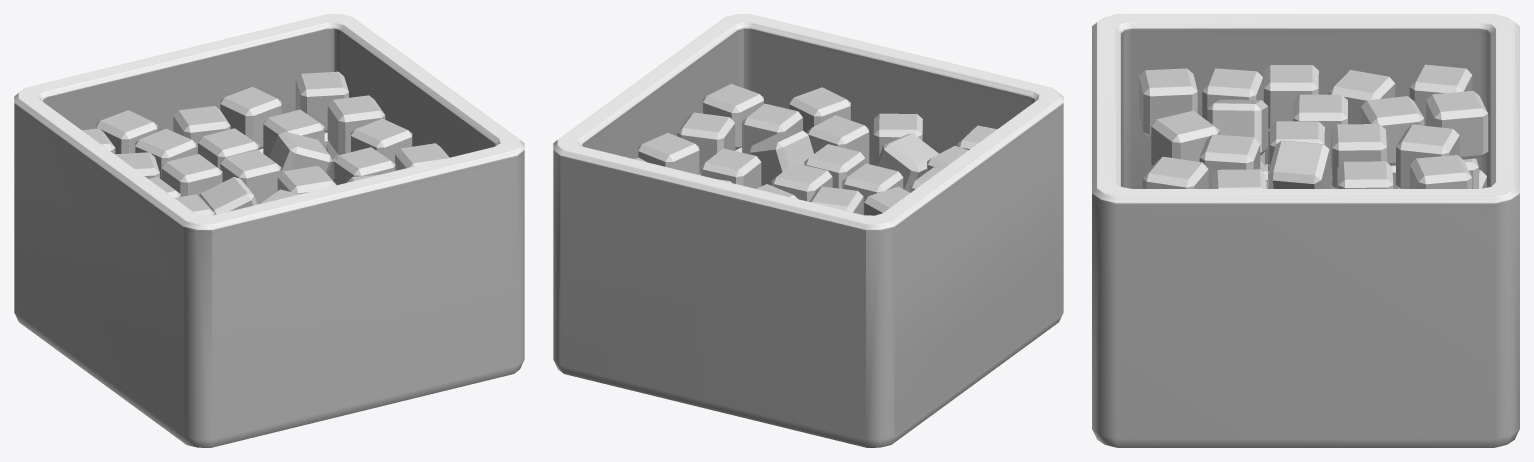
File: bin.glb
3 views of the same model, side by side, from view 1: azimuth 30°, elevation 25°; view 2: azimuth 150°, elevation 25°; view 3: azimuth 270°, elevation 25° (orthographic). The views are drawn at different scales.
Parts seen in each view (by area): view 1: Container, Cube.061, Cube.067, Cube.062, Cube.070, Cube.069, Cube.071, Cube.072, Cube.059, Cube.066, Cube.060, Cube.076 (+6 smaller); view 2: Container, Cube.071, Cube.072, Cube.074, Cube.076, Cube.077, Cube.067, Cube.075, Cube.066, Cube.080, Cube.065, Cube.070 (+5 smaller); view 3: Container, Cube.059, Cube.078, Cube.071, Cube.079, Cube.068, Cube.060, Cube.065, Cube.074, Cube.064, Cube.075, Cube.073 (+8 smaller).
Part boxes in pixels (box(x1,y1,x2,y2)): Container: box(14, 14, 524, 447); Cube.061: box(220, 87, 281, 149); Cube.067: box(327, 95, 385, 155); Cube.062: box(295, 71, 348, 132); Cube.070: box(220, 149, 281, 204); Cube.069: box(161, 154, 222, 196); Cube.071: box(269, 131, 332, 174); Cube.072: box(351, 118, 412, 163); Cube.059: box(96, 110, 157, 153); Cube.066: box(263, 109, 324, 157); Cube.060: box(173, 106, 230, 154); Cube.076: box(334, 147, 395, 184); Container: box(553, 14, 1063, 447); Cube.071: box(749, 130, 813, 186); Cube.072: box(677, 112, 735, 174); Cube.074: box(876, 133, 938, 192); Cube.076: box(742, 103, 802, 154); Cube.077: box(702, 84, 763, 150); Cube.067: box(638, 133, 699, 174); Cube.075: box(807, 115, 869, 163); Cube.066: box(700, 148, 761, 188); Cube.080: box(789, 87, 850, 133); Cube.065: box(771, 163, 832, 201); Cube.070: box(804, 144, 865, 188); Container: box(1092, 14, 1519, 447); Cube.059: box(1426, 91, 1488, 159); Cube.078: box(1139, 68, 1197, 137); Cube.071: box(1268, 140, 1332, 188); Cube.079: box(1151, 110, 1219, 165); Cube.068: box(1264, 65, 1318, 131); Cube.060: box(1396, 124, 1459, 188); Cube.065: box(1331, 124, 1386, 188); Cube.074: box(1207, 99, 1268, 155); Cube.064: box(1361, 96, 1424, 165); Cube.075: box(1199, 134, 1260, 188); Cube.073: box(1202, 68, 1262, 120).
Bounding box in the file's own units: 0.2487 × 0.1587 × 0.2404.
2 materials, 2 textured.
